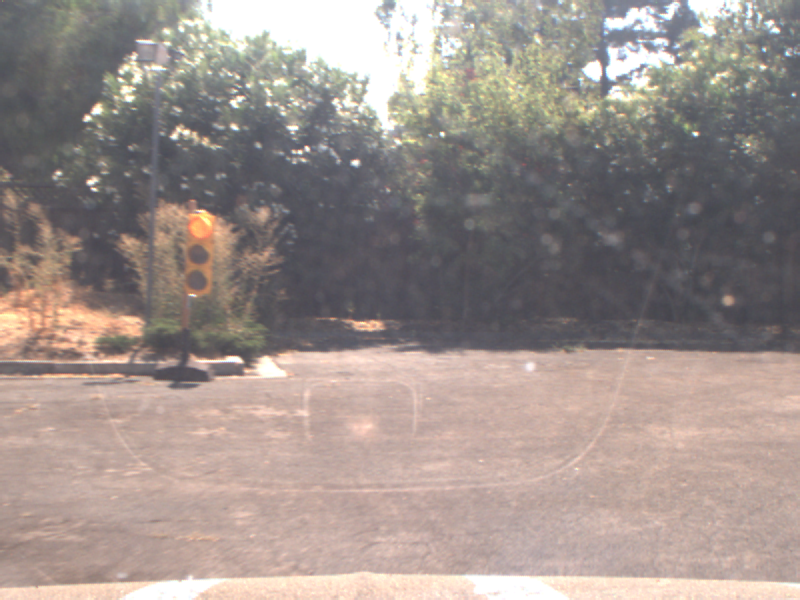red: (181, 208, 215, 299)
